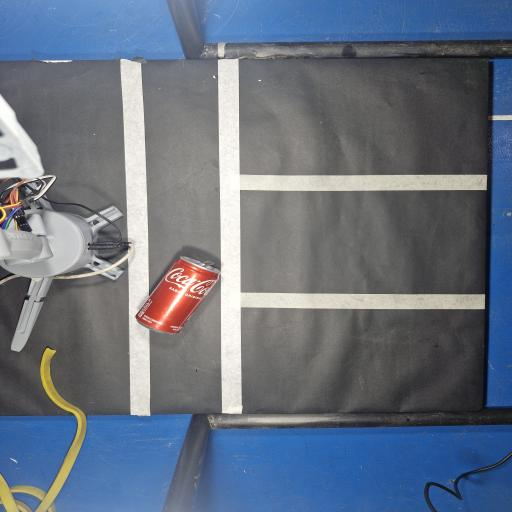lata: (136, 256, 220, 334)
